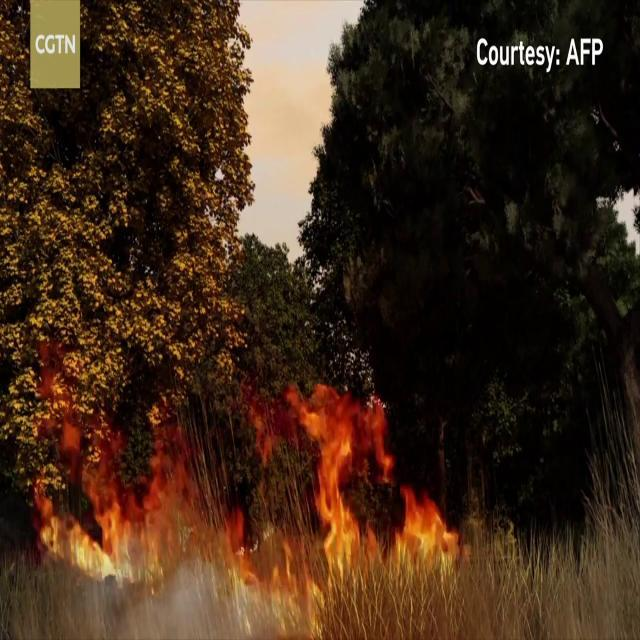Fire: (252, 371, 464, 607)
